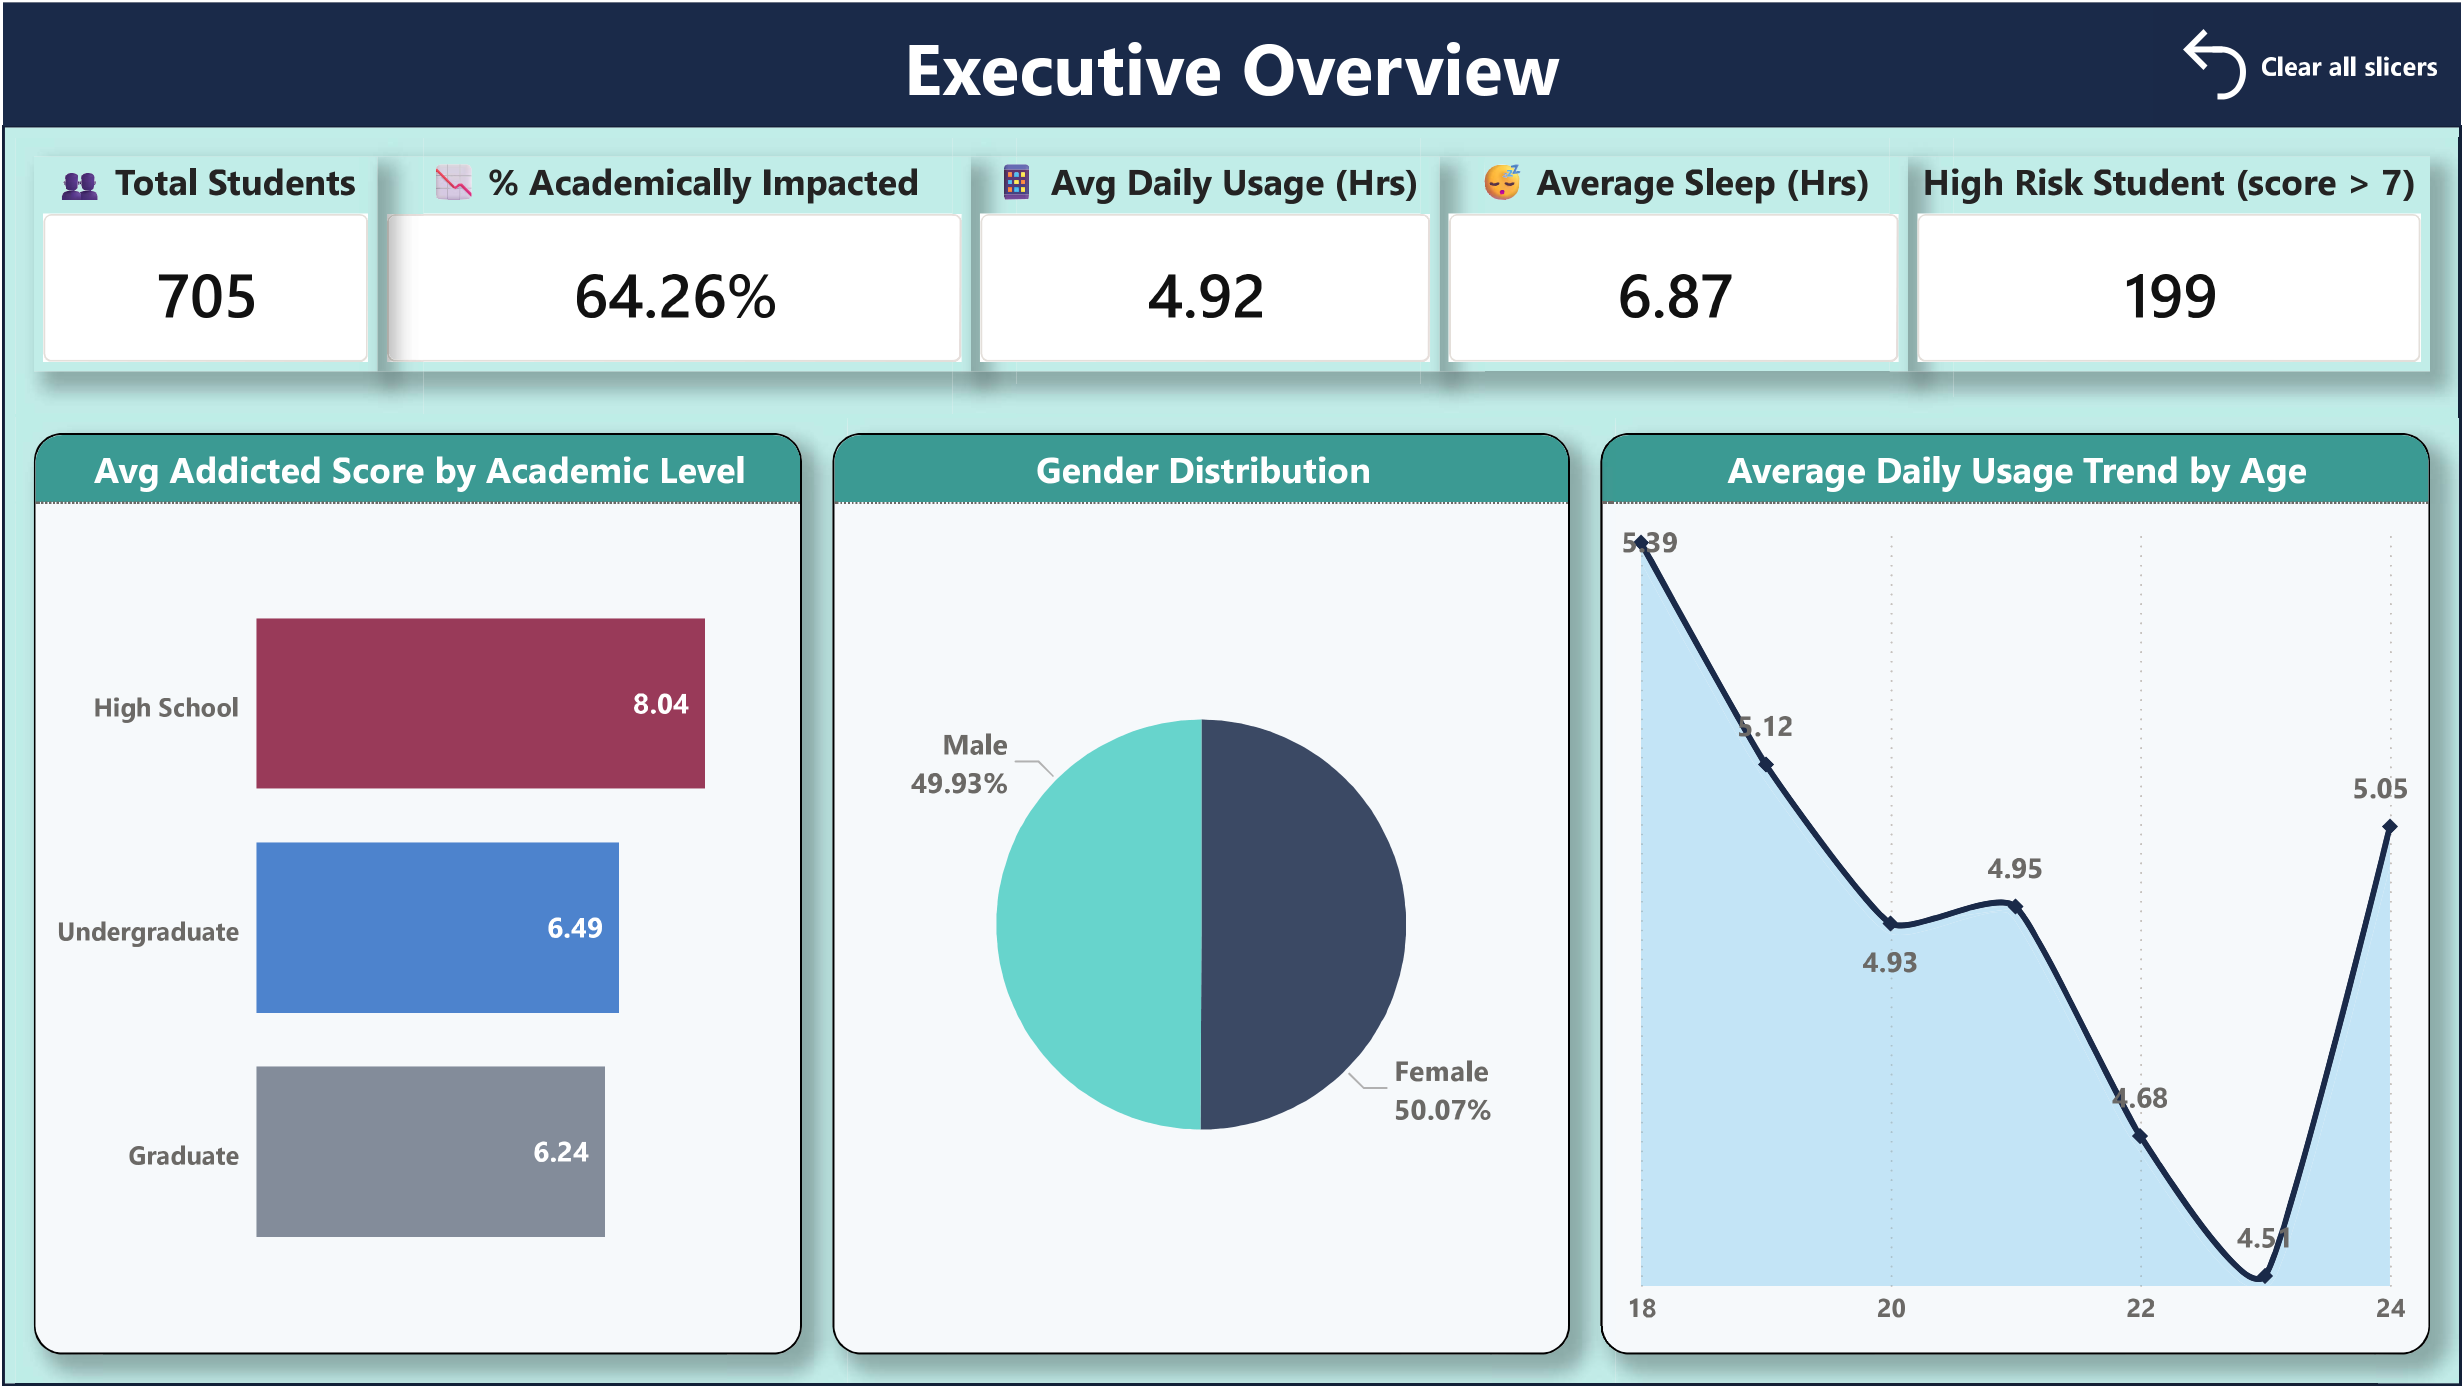

Layout of this report page (visuals, bound fields, positions):
{"tool":"powerbi","page":{"name":"Executive Overview","canvas":[1280,720],"ordinal":1},"visuals":[{"type":"shape","box":[0,0,1280,64],"z":0,"group":"g1"},{"type":"shape","title":"Graphs","box":[0,64,1280,656],"z":0},{"type":"cardVisual","title":"📉 % Academically Impacted","fields":{"Data":["Student Details.% Affected Academically"]},"box":[194.9,80,309.1,112],"z":0,"group":"g3"},{"type":"textbox","box":[432,0,416,64],"z":1000,"group":"g1"},{"type":"cardVisual","title":"👥 Total Students","fields":{"Data":["CountNonNull(Student Details.Student_ID)"]},"box":[16,80,178.9,112],"z":1000,"group":"g3"},{"type":"barChart","title":"Avg Addicted Score by Academic Level","fields":{"Y":["Avg(Student Details.Addicted_Score)"],"Category":["Student Details.Academic_Level"]},"box":[16,224,400,480],"z":1000},{"type":"cardVisual","title":"📱 Avg Daily Usage (Hrs)","fields":{"Data":["Student Details.Avg Usage Hours"]},"box":[504,80,244,112],"z":2000,"group":"g3"},{"type":"lineChart","title":"Average Daily Usage Trend by Age","fields":{"Category":["Student Details.Age"],"Y":["Student Details.Avg Usage Hours"]},"box":[832,224,432,480],"z":2000},{"type":"cardVisual","title":"😴 Average Sleep (Hrs)","fields":{"Data":["Student Details.Avg Sleep Hours"]},"box":[748,80,244,112],"z":3000,"group":"g3"},{"type":"pieChart","title":"Gender Distribution","fields":{"Category":["Student Details.Gender"],"Y":["CountNonNull(Student Details.Student_ID)"]},"box":[432,224,384,480],"z":3000},{"type":"group","id":"g1","title":"Group 4","box":[0,0,1280,64],"z":4000},{"type":"actionButton","box":[1120,0,160,64],"z":5000},{"type":"group","id":"g2","title":"Group 1","box":[16,80,1248,112],"z":6000},{"type":"cardVisual","title":"High Risk Student (score > 7)","fields":{"Data":["Student Details.Addicted Student Count"]},"box":[992,80,272,112],"z":7000,"group":"g3"},{"type":"group","id":"g3","title":"Group 2","box":[16,80,1248,112],"z":7001,"group":"g2"}]}

Visuals, with their boxes in screenshot pixels (x1, y1, x2, y2), scaled from the page's 1280x720 canvas onto the 2464x1388 screenshot:
shape: rect(0, 0, 2463, 123)
"Graphs" shape: rect(0, 123, 2463, 1387)
"📉 % Academically Impacted" cardVisual: rect(375, 154, 970, 370)
textbox: rect(832, 0, 1632, 123)
"👥 Total Students" cardVisual: rect(31, 154, 375, 370)
"Avg Addicted Score by Academic Level" barChart: rect(31, 432, 801, 1357)
"📱 Avg Daily Usage (Hrs)" cardVisual: rect(970, 154, 1440, 370)
"Average Daily Usage Trend by Age" lineChart: rect(1602, 432, 2433, 1357)
"😴 Average Sleep (Hrs)" cardVisual: rect(1440, 154, 1910, 370)
"Gender Distribution" pieChart: rect(832, 432, 1571, 1357)
"Group 4" group: rect(0, 0, 2463, 123)
actionButton: rect(2156, 0, 2463, 123)
"Group 1" group: rect(31, 154, 2433, 370)
"High Risk Student (score > 7)" cardVisual: rect(1910, 154, 2433, 370)
"Group 2" group: rect(31, 154, 2433, 370)
